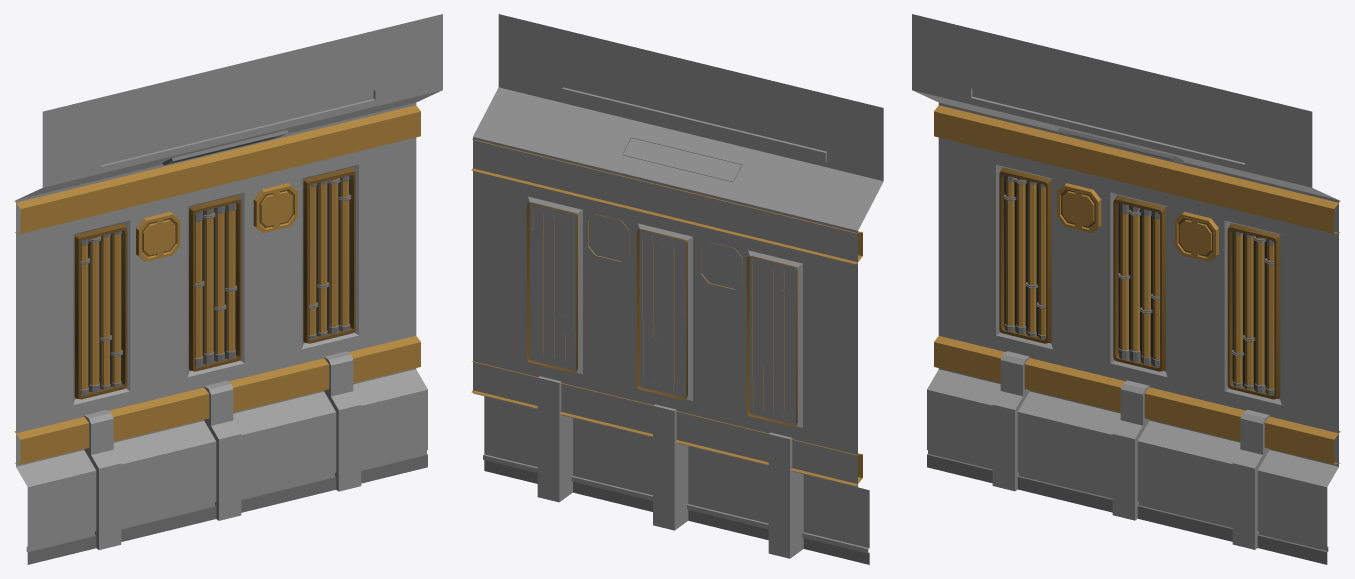
File: Wall_2.glb
3 views of the same model, side by side, from view 1: azimuth 30°, elevation 25°; view 2: azimuth 150°, elevation 25°; view 3: azimuth 330°, elevation 25° (orthographic). The views are drawn at different scales.
Parts seen in each view (by area): view 1: Wall_2; view 2: Wall_2; view 3: Wall_2.
Boxes of the visible parts, x1,y1,x2,y2 form: Wall_2: [14, 14, 442, 564]; Wall_2: [471, 14, 883, 564]; Wall_2: [912, 14, 1340, 564].
Bounding box in the file's own units: 1.36 × 1.51 × 0.1813.
